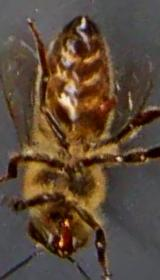varroa_mite: (94, 88, 120, 122)
